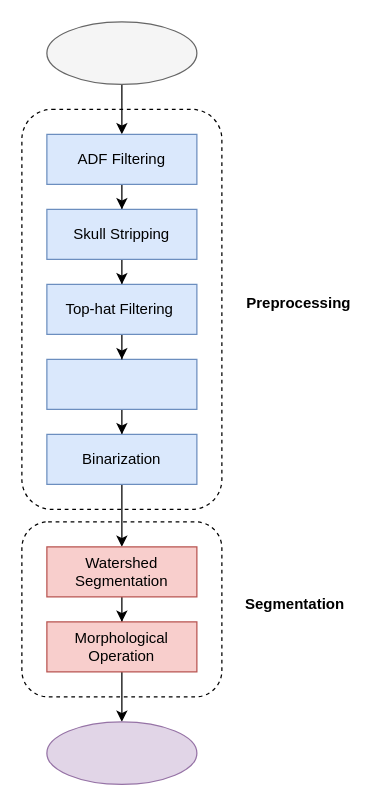
This 379x806 diagram has some shape labels left out. Here are the shapes that lost their labels. From the top down, the centre of each, then its label:
point (121, 52): Image Acquisition
point (121, 383): Constrast Enhencement
point (121, 752): Performance Measure
